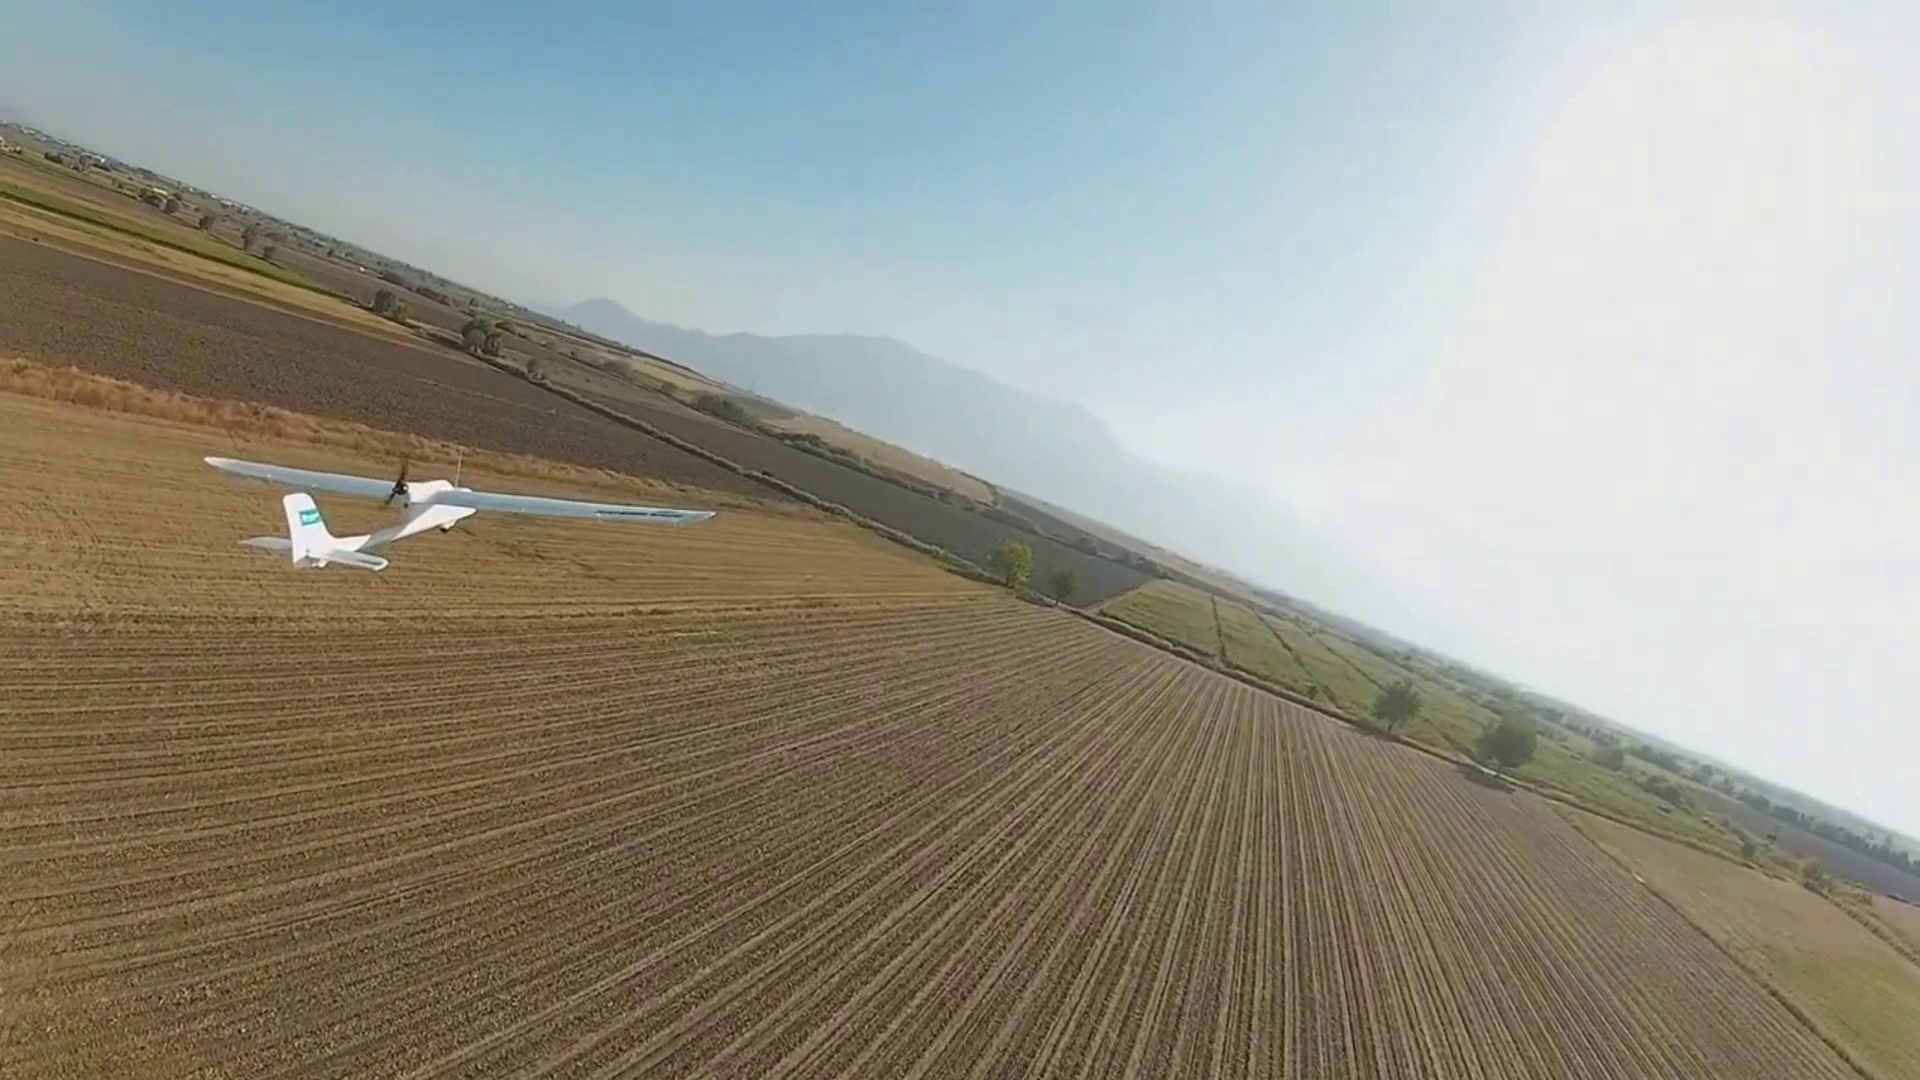airplane: (201, 454, 483, 571)
